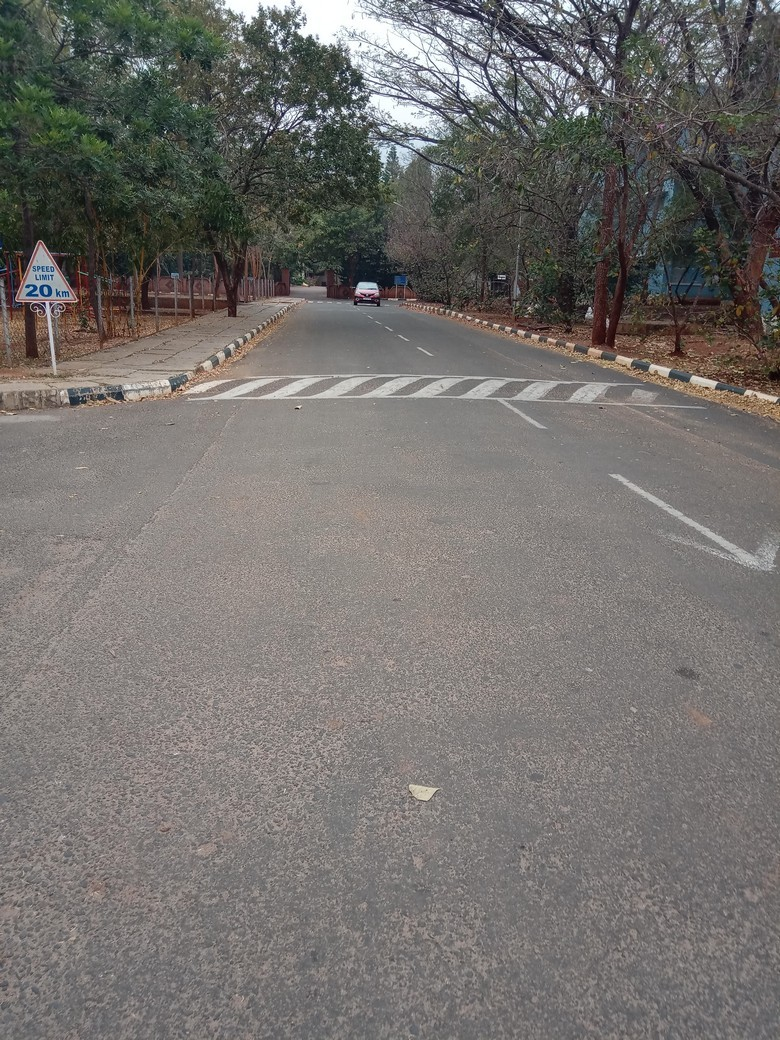bump: (165, 373, 707, 407)
